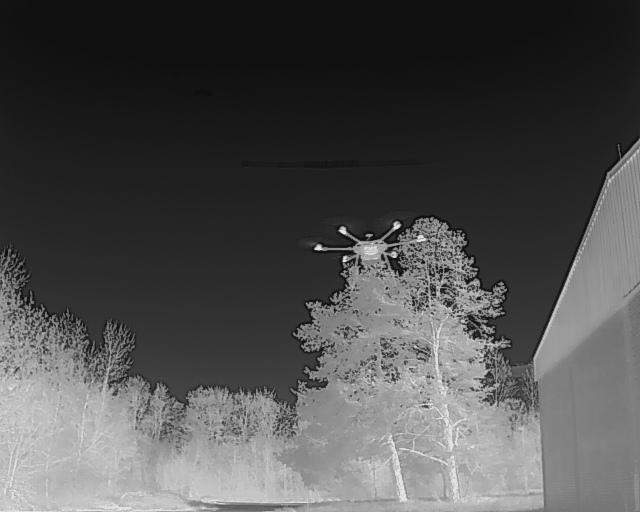drone: (290, 204, 447, 297)
